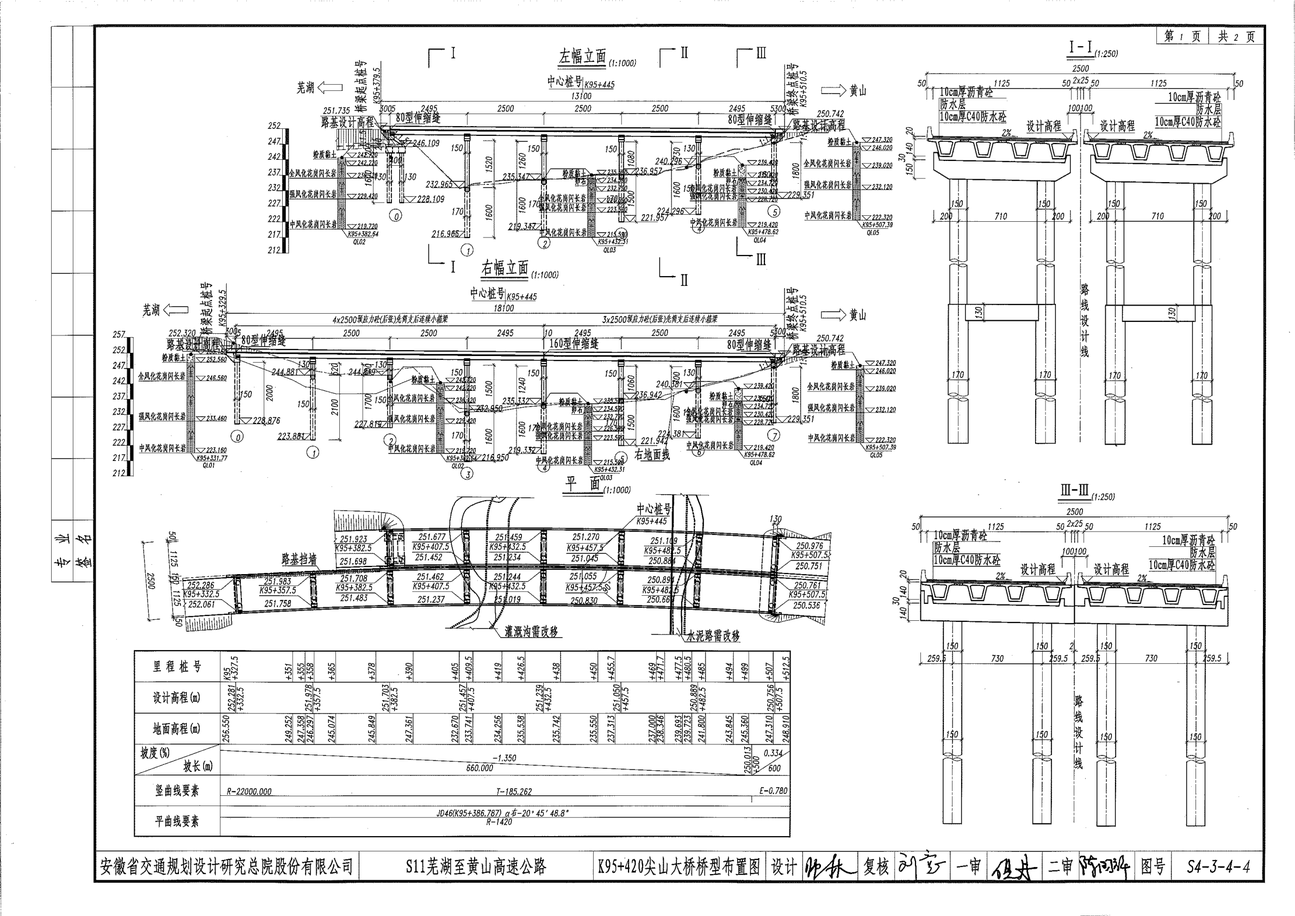A: (108, 256, 912, 480), (260, 39, 906, 263)
